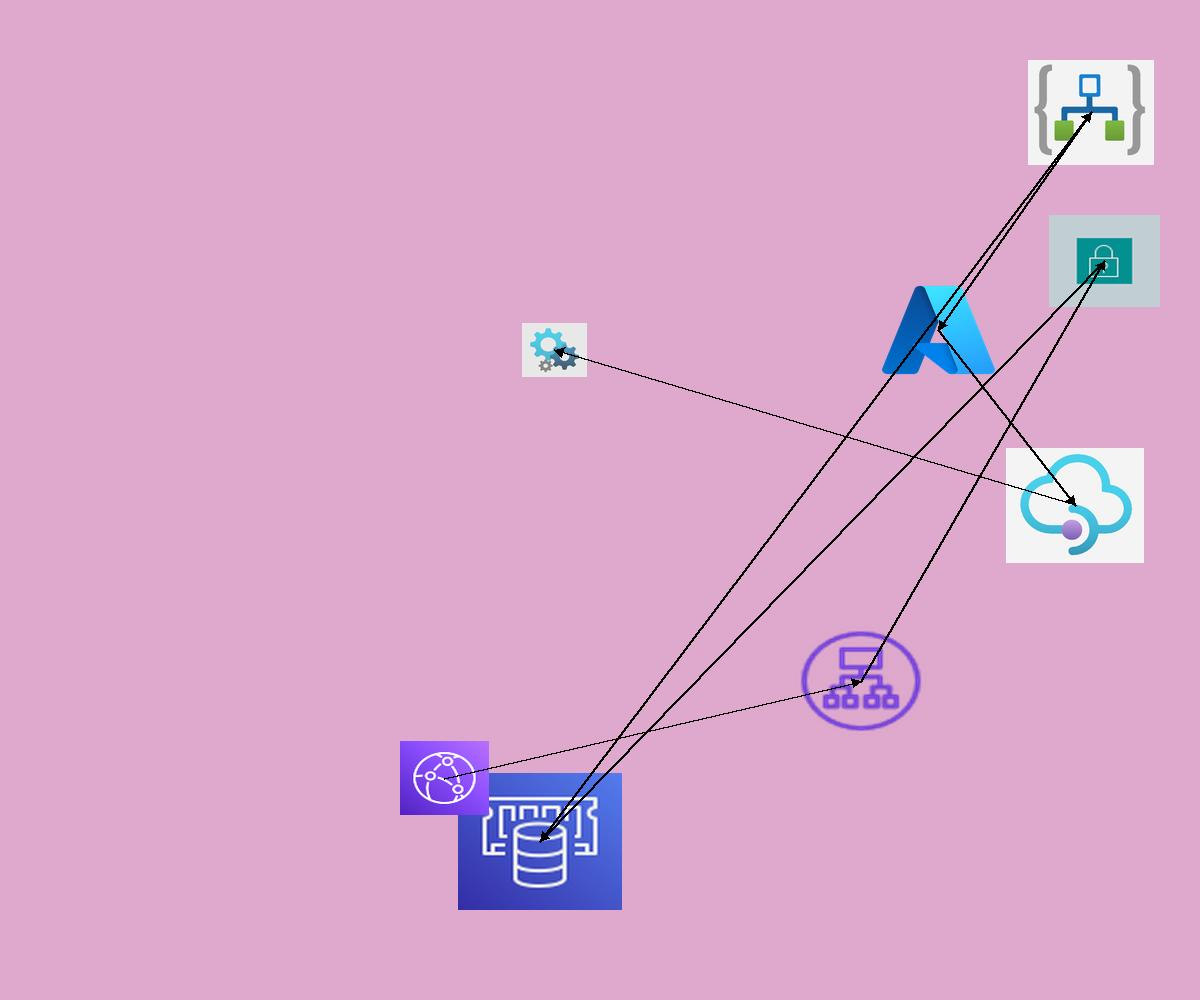AWS-CloudFront: (400, 741, 489, 815)
AWS-ElastiCache: (458, 773, 622, 910)
AWS-Private-subnet: (1049, 215, 1160, 307)
AWS-Res_Elastic-Load-Balancing_Application-Load-Balancer: (796, 627, 926, 735)
Azure_api: (522, 323, 587, 377)
Azure_api_gateway: (1006, 448, 1144, 563)
Azure_integration-204-Logic-Apps: (1028, 60, 1154, 165)
Azure_services: (877, 279, 1000, 381)
